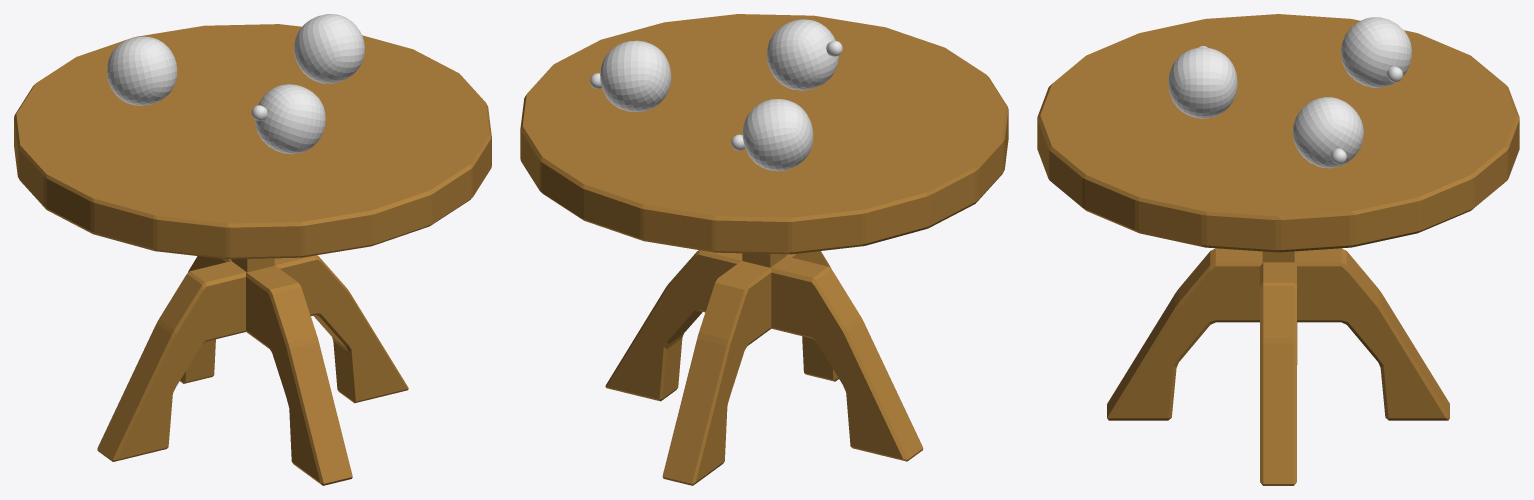
File: concpack.fbx
The picture shows the model from 3 angles, left to right: view 1: azimuth 30°, elevation 25°; view 2: azimuth 150°, elevation 25°; view 3: azimuth 270°, elevation 25°; orthographic projection. The views are drawn at different scales.
Visible parts, largest first — view 1: Cube.001, Cube, Cube.002, Cube.003; view 2: Cube.001, Cube.003, Cube.002, Cube; view 3: Cube.001, Cube.003, Cube.002, Cube.
Part boxes in pixels (x1=…): Cube.001: x1=14, y1=24, x2=491, y2=485; Cube: x1=251, y1=84, x2=325, y2=154; Cube.002: x1=294, y1=14, x2=364, y2=83; Cube.003: x1=107, y1=36, x2=177, y2=105; Cube.001: x1=520, y1=14, x2=1008, y2=485; Cube.003: x1=731, y1=99, x2=813, y2=171; Cube.002: x1=590, y1=40, x2=671, y2=111; Cube: x1=766, y1=19, x2=842, y2=90; Cube.001: x1=1037, y1=14, x2=1519, y2=485; Cube.003: x1=1341, y1=17, x2=1411, y2=87; Cube.002: x1=1292, y1=97, x2=1363, y2=168; Cube: x1=1168, y1=46, x2=1237, y2=118.
Size of the model in its own units: 353 by 294 by 354.
